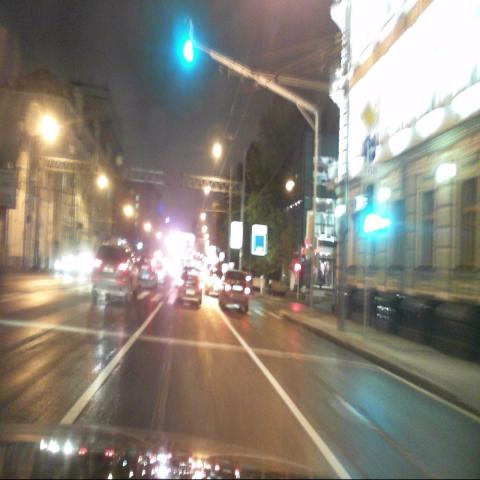4_1_4: (362, 136, 376, 162)
